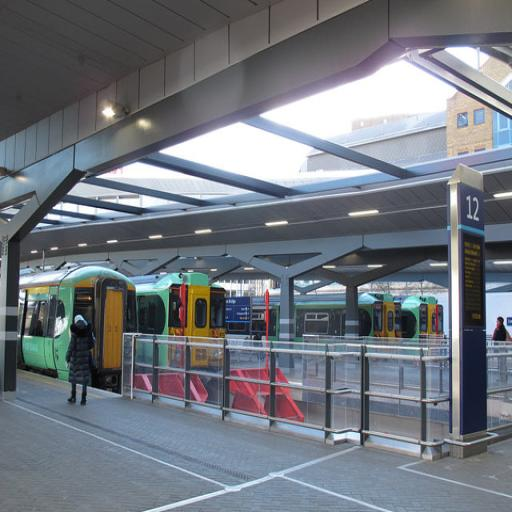platform_edge: (18, 357, 64, 392)
